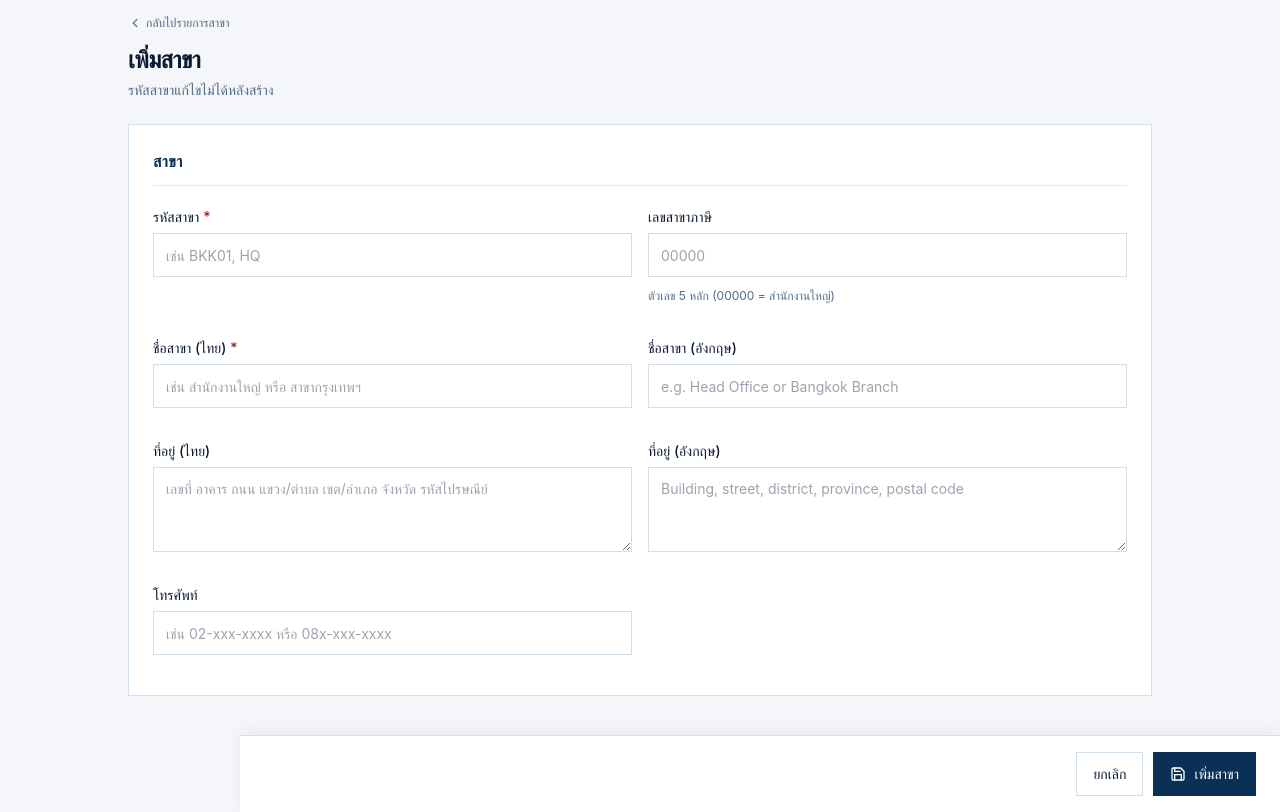
Scenario: BranchAdminEditor › shows the duplicate-code message from the server
The image size is (1280, 812).
Type "HQ" into the field labelled "รหัสสาขา *" at (392, 255), box [153,233,632,277]
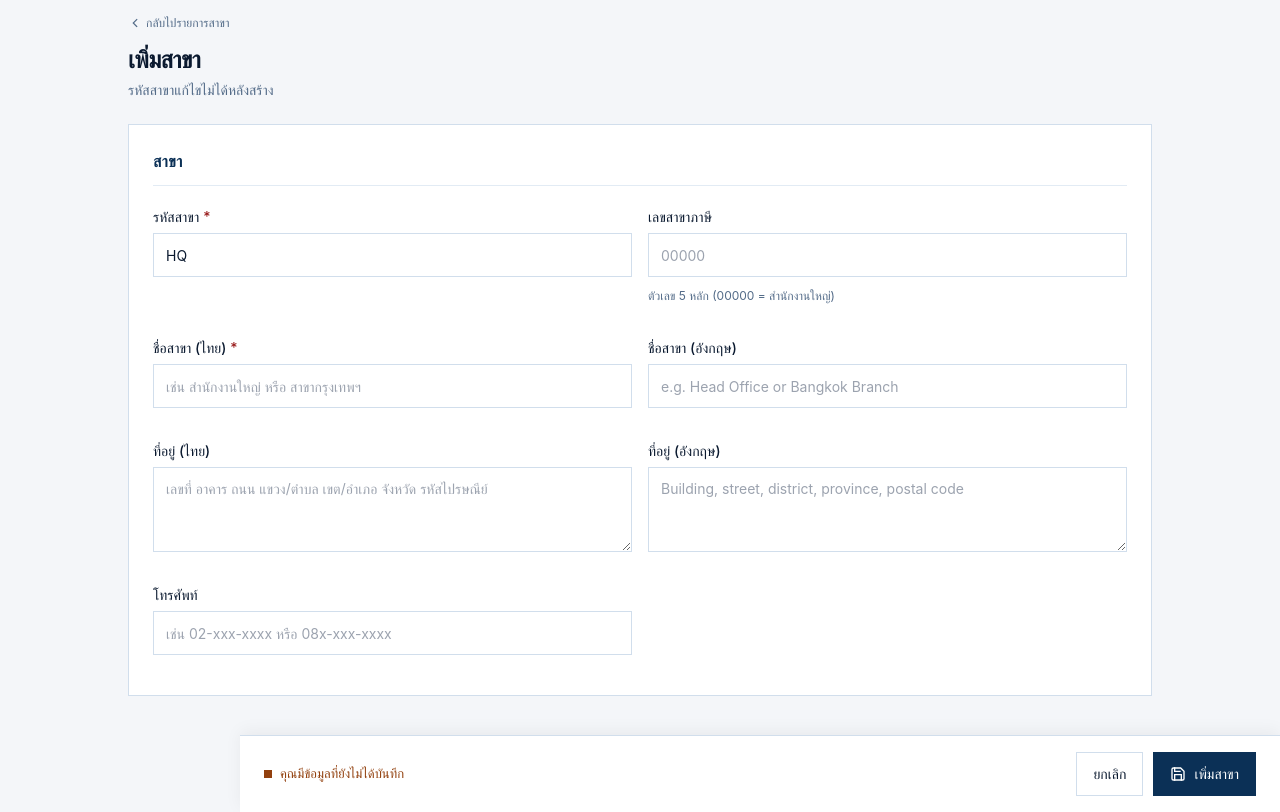
Type "x" into the field labelled "ชื่อสาขา (ไทย) *" at (392, 386), box [153,364,632,408]
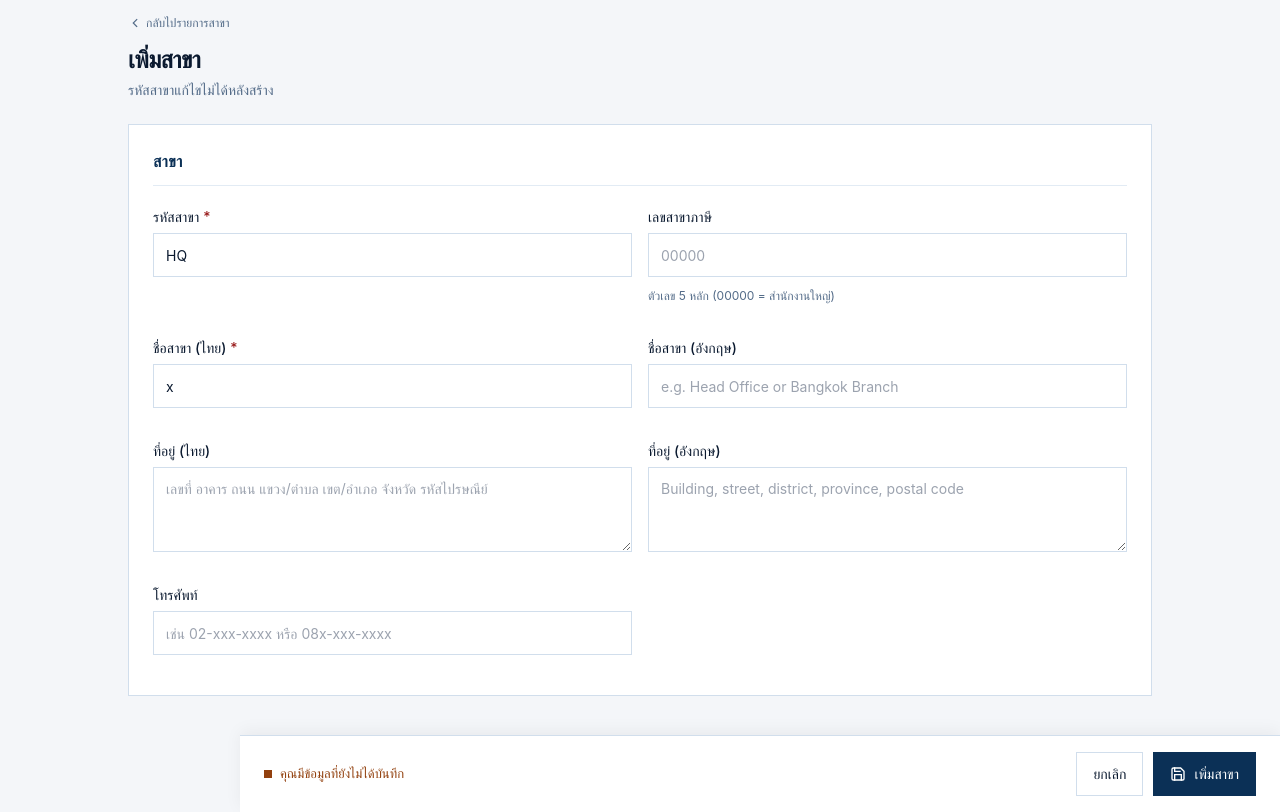
Click the button "เพิ่มสาขา" at (1205, 774), box [1153,752,1256,796]
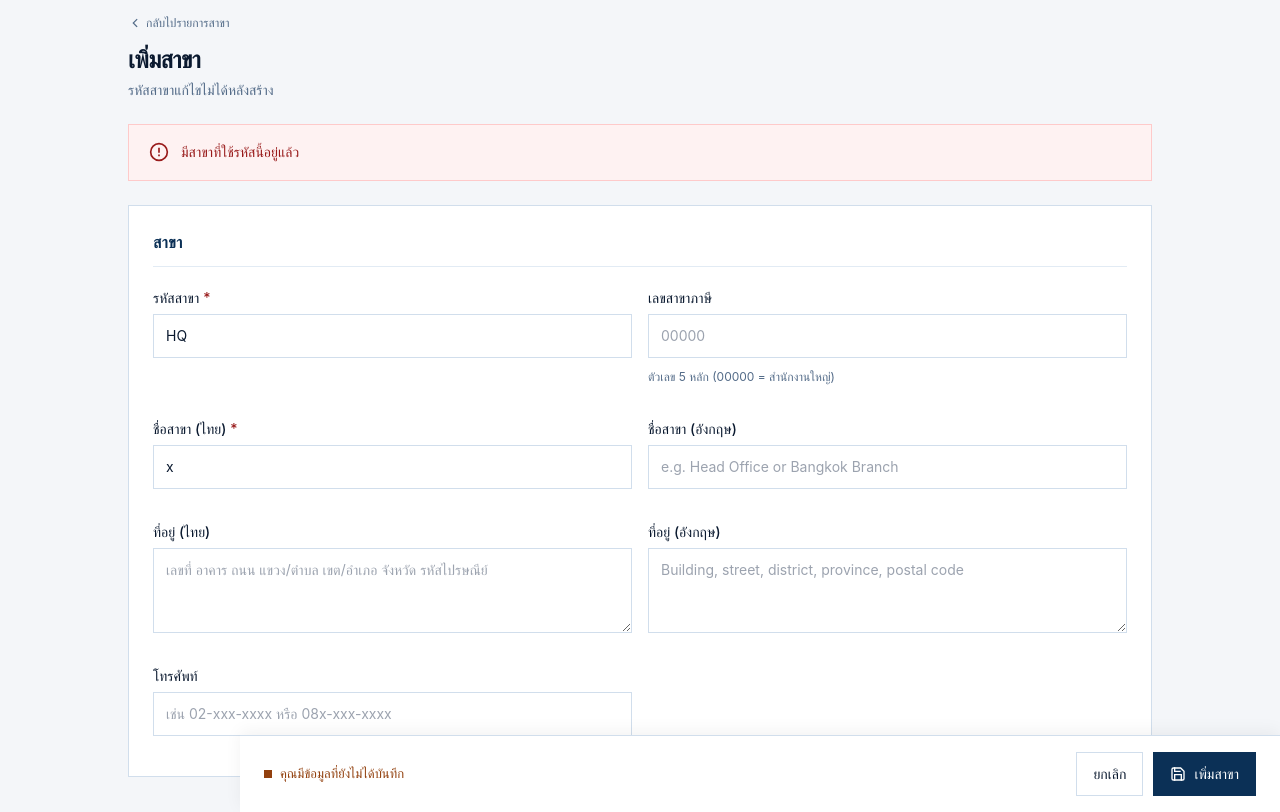
Check: the text "มีสาขาที่ใช้รหัสนี้อยู่แล้ว" is shown, box [181,143,299,160]
